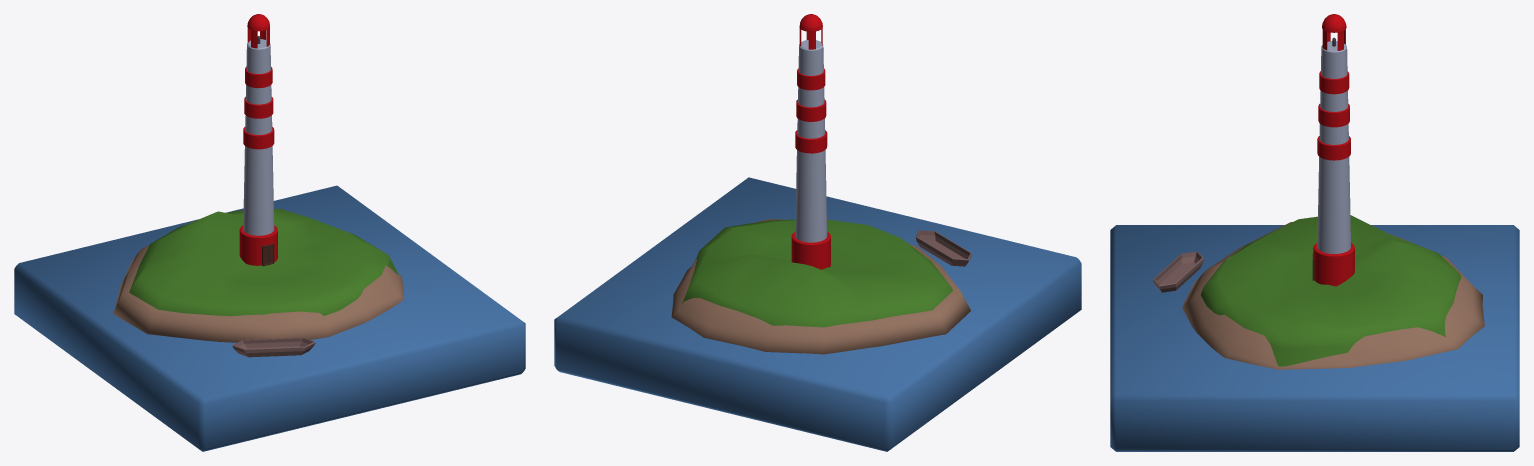
Rendered from LightHouse_Low_Poly_Scene.obj.
3 views of the same model, side by side, from view 1: azimuth 30°, elevation 25°; view 2: azimuth 150°, elevation 25°; view 3: azimuth 270°, elevation 25° (orthographic). The views are drawn at different scales.
Visible parts, largest first — view 1: cube1, cylinder2, Object, cylinder11, cube2, cylinder1, sphere1, cylinder12; view 2: cube1, cylinder2, Object, cylinder11, cube2, cylinder1, sphere1, cylinder12; view 3: cube1, cylinder2, Object, cylinder11, cylinder1, cube2, sphere1, cylinder12, cylinder121, cylinder122.
Part boxes in pixels (x1,y1,x2,y2): cube1: (14, 185, 525, 451); cylinder2: (129, 208, 398, 316); Object: (113, 245, 403, 342); cylinder11: (243, 39, 274, 235); cube2: (232, 337, 315, 357); cylinder1: (239, 225, 277, 265); sphere1: (247, 14, 269, 48); cylinder12: (243, 127, 274, 149); cube1: (554, 177, 1081, 451); cylinder2: (682, 219, 952, 327); Object: (671, 219, 970, 354); cylinder11: (795, 40, 827, 242); cube2: (915, 230, 971, 266); cylinder1: (791, 232, 830, 269); sphere1: (799, 14, 822, 49); cylinder12: (795, 130, 827, 153); cube1: (1110, 225, 1519, 451); cylinder2: (1200, 215, 1461, 366); Object: (1182, 222, 1484, 369); cylinder11: (1317, 41, 1350, 253); cylinder1: (1313, 242, 1354, 286); cube2: (1153, 251, 1203, 292); sphere1: (1322, 14, 1346, 50); cylinder12: (1317, 136, 1350, 160); cylinder121: (1318, 104, 1349, 127); cylinder122: (1319, 71, 1349, 94).
Size of the model in its own units: 17.46 by 16.55 by 17.46.
